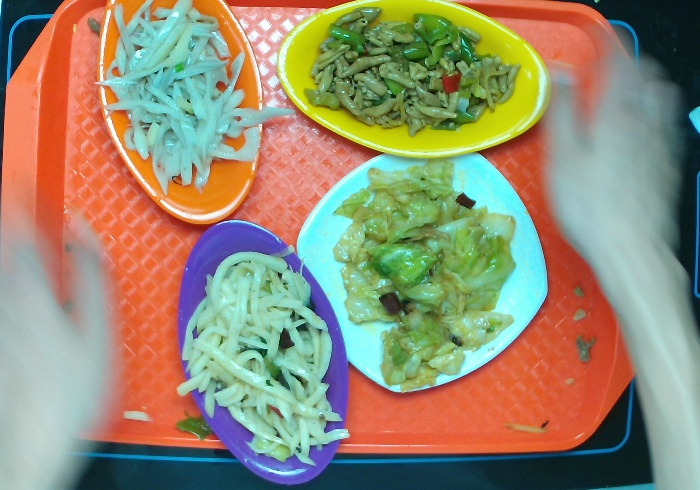RJxy-Fen_Hong_Tuo_Yuan: (181, 212, 352, 487)
RJxy-Huang_Se_Tuo_Yuan: (276, 1, 552, 161)
RJxy-Ju_Huang_Tuo_Yuan: (95, 1, 264, 228)
RJxy-Si_Fang_Die: (295, 134, 554, 396)
